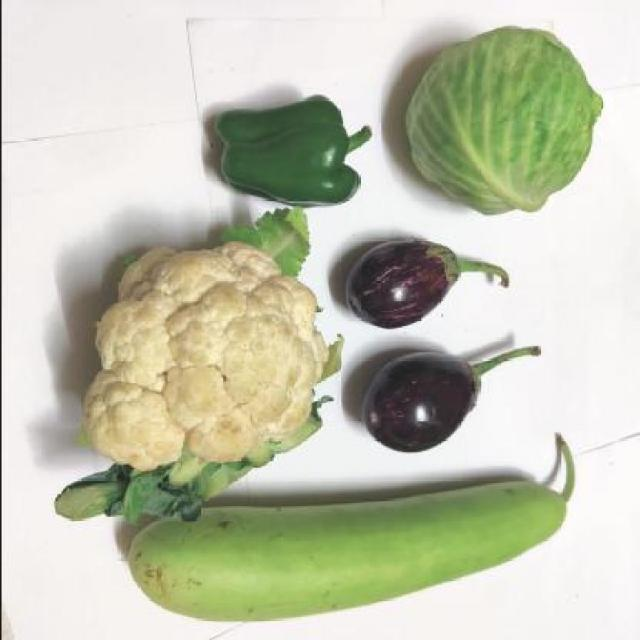Brinjal: (361, 344, 537, 454), (340, 242, 509, 331)
Cabbage: (403, 24, 603, 216)
Calabash: (144, 480, 566, 616)
Capsicum: (205, 98, 368, 206)
Cauliflower: (56, 210, 330, 512)
